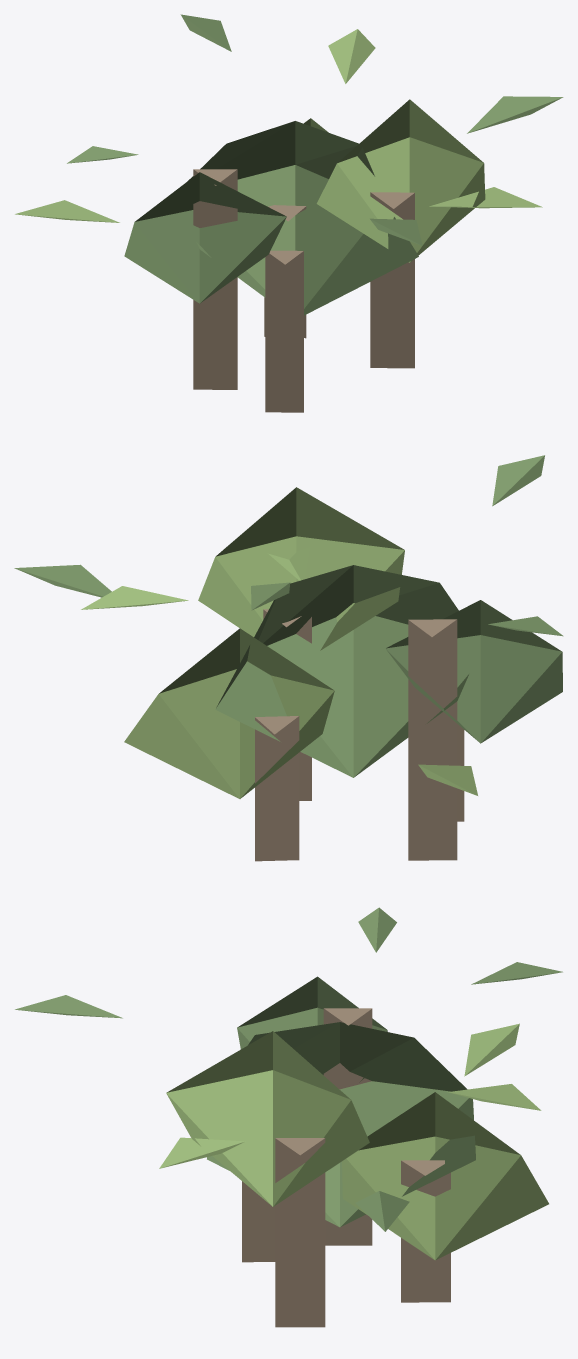
File: guan.moli@subadult__bloom.glb
3 views of the same model, one above another, from view 1: azimuth 30°, elevation 25°; view 2: azimuth 150°, elevation 25°; view 3: azimuth 270°, elevation 25° (orthographic). The views are drawn at different scales.
Parts seen in each view (by area): view 1: guan.moli@subadult__bloom; view 2: guan.moli@subadult__bloom; view 3: guan.moli@subadult__bloom.
Part boxes in pixels (<box>): guan.moli@subadult__bloom: <box>15,14,563,412</box>; guan.moli@subadult__bloom: <box>14,455,563,861</box>; guan.moli@subadult__bloom: <box>15,907,562,1327</box>.
Bounding box in the file's own units: 1.28 × 0.7227 × 1.14.
